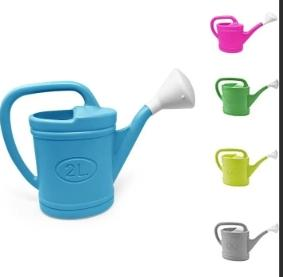ARROSOIR: (0, 0, 274, 277)
